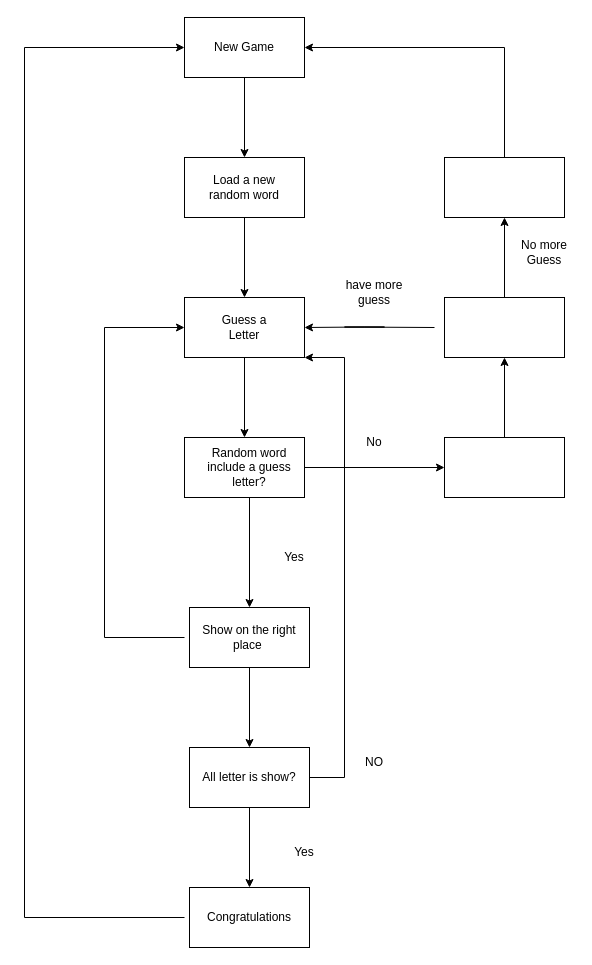
Some shapes in this 592 by 965 pixel diagram are drawn without their labels. Each missing label, with the centre of its shape:
Game Over: the point at 504,187
hangman wrong answer count: the point at 504,327
Show the letter in guessed word: the point at 504,467
